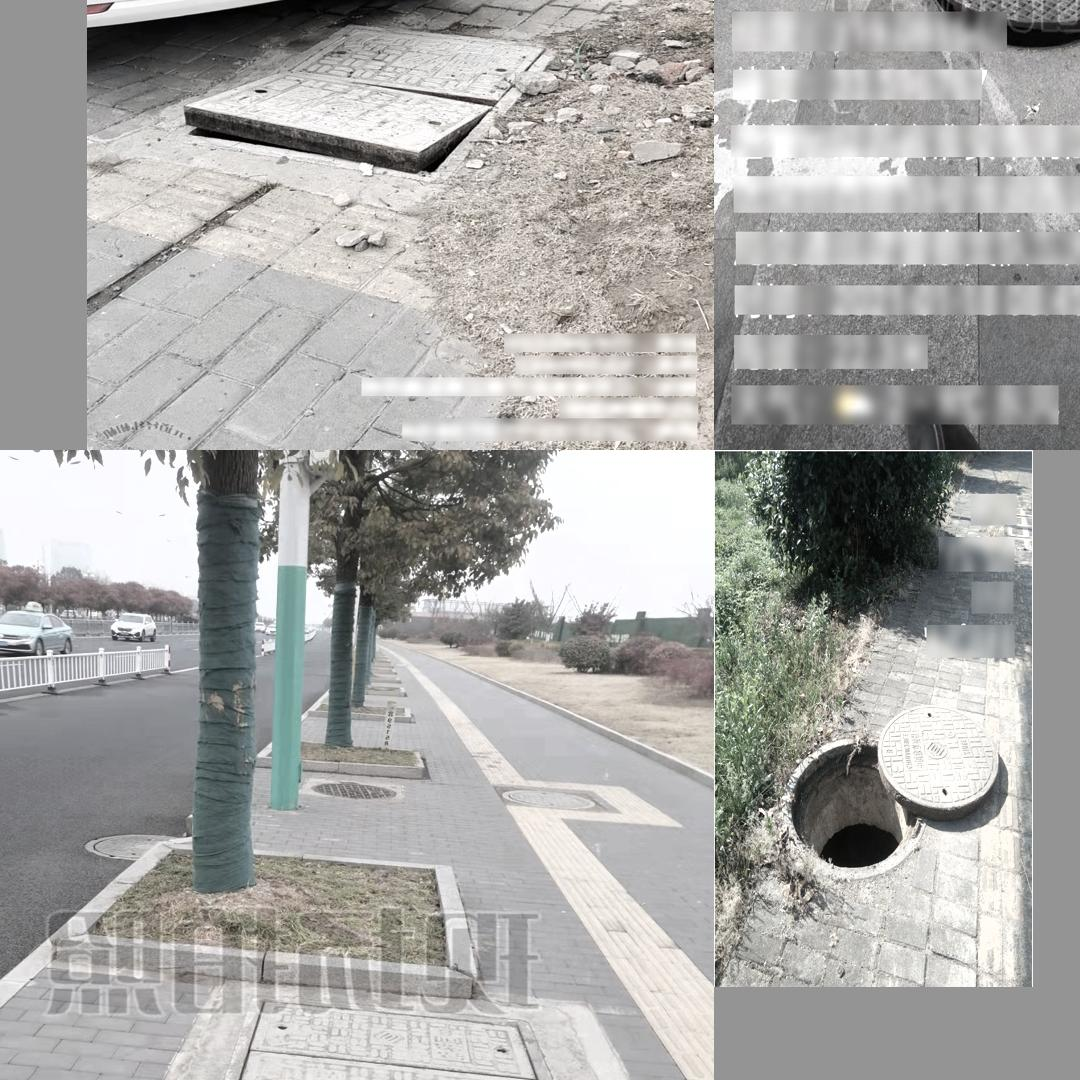good: (84, 830, 178, 860), (500, 787, 598, 809), (310, 780, 399, 800)
uncovered: (159, 39, 533, 203), (784, 704, 998, 879), (176, 999, 617, 1080), (923, 0, 1080, 50)
